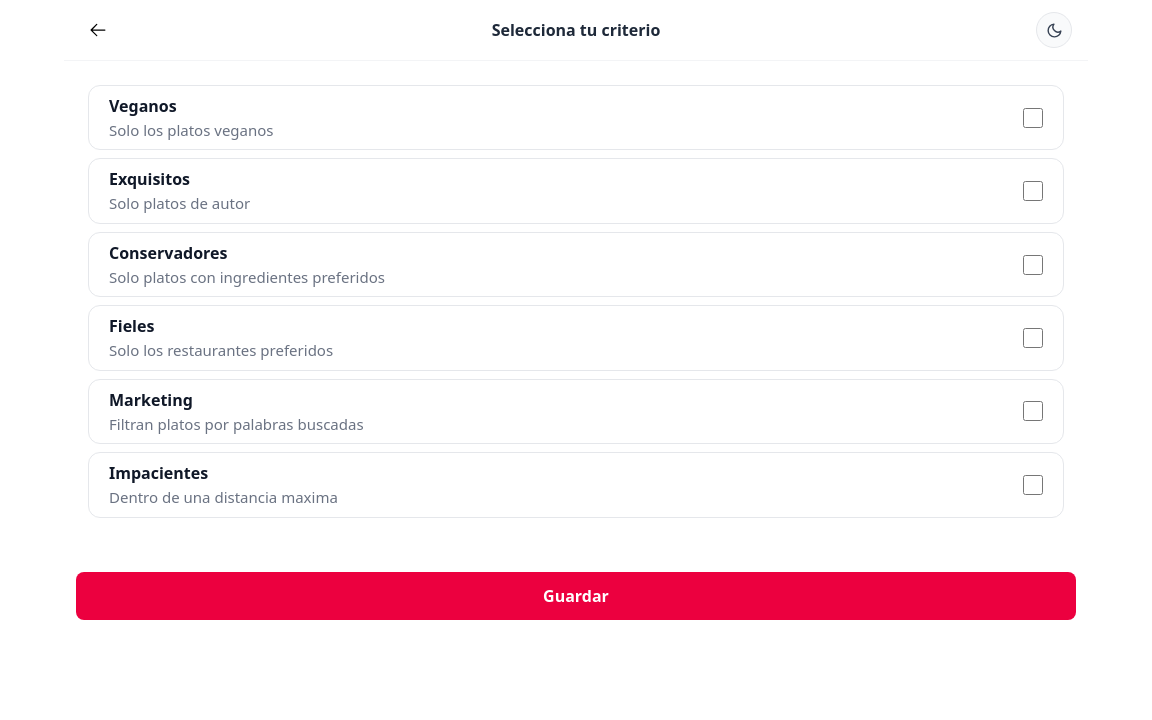
Scenario: CriteriosPanel › debe validar criterio Fiel sin locales seleccionados
This screenshot has width=1152, height=720.
Check: the text "Fieles" is shown, box [109,315,154,337]
Click the checkbox in the row of "Solo los restaurantes preferidos". click: click(1033, 338)
box: [1023,328,1043,348]
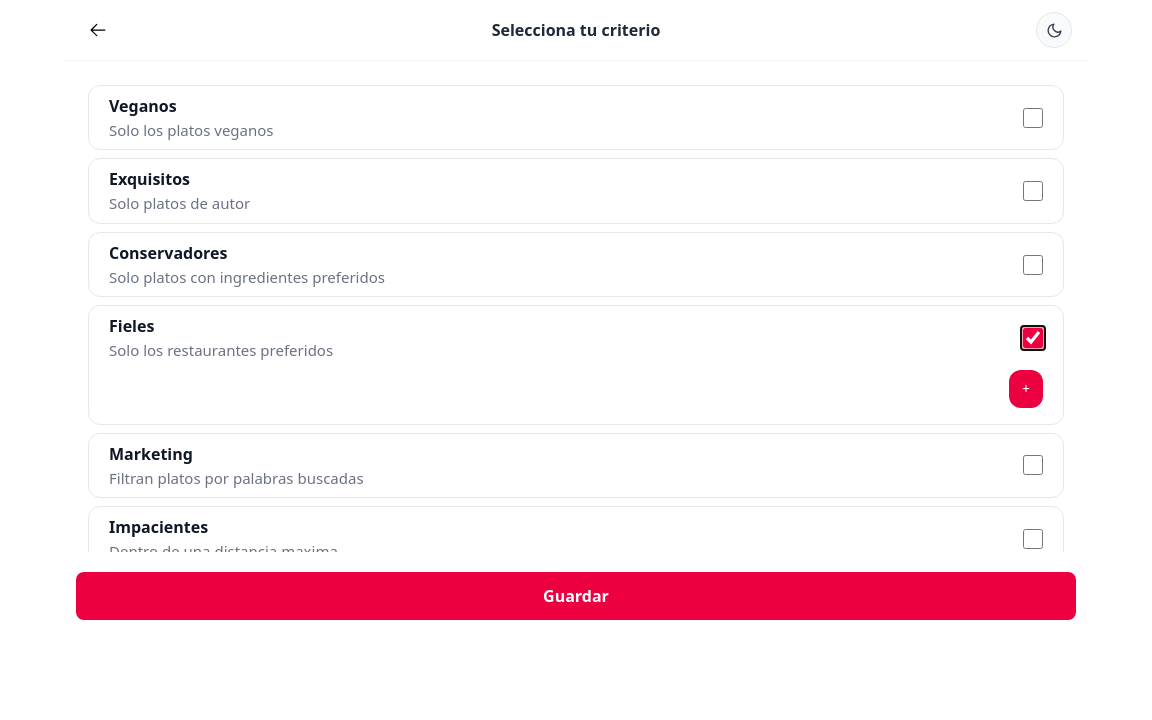
Check: the checkbox in the row of "Solo los restaurantes preferidos" is checked, box [1023,328,1043,348]
Click the button "Guardar". click: click(576, 596)
box: [76,572,1076,620]
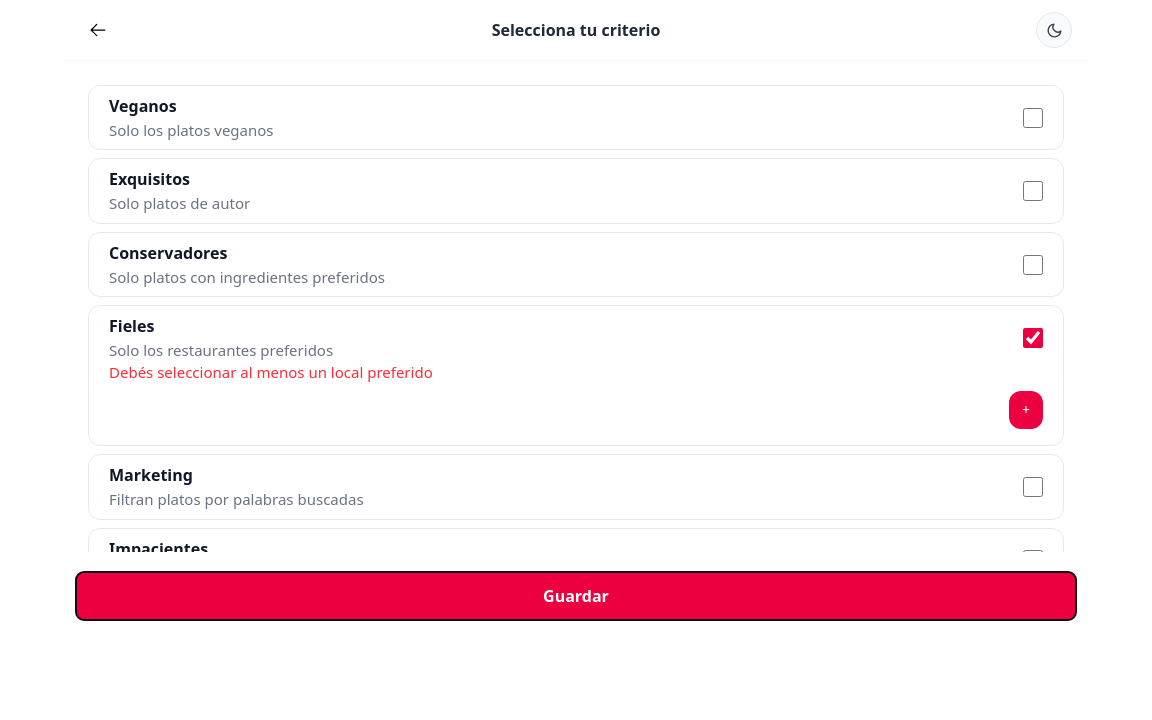
Check: the text "Debés seleccionar al menos un local preferido" is shown, box [109,362,433,382]
